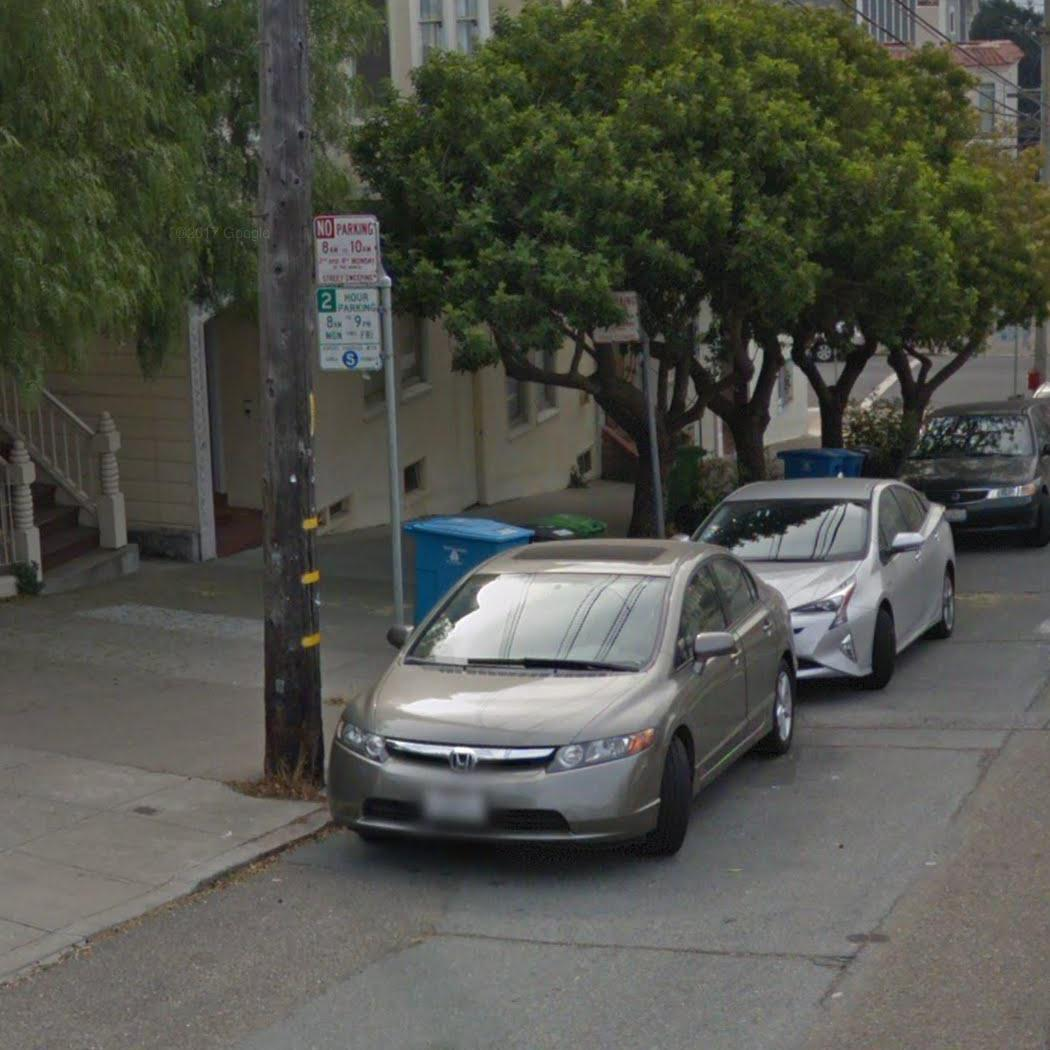2 Hour Parking: (312, 280, 390, 374)
No Parking: (310, 210, 385, 289)
